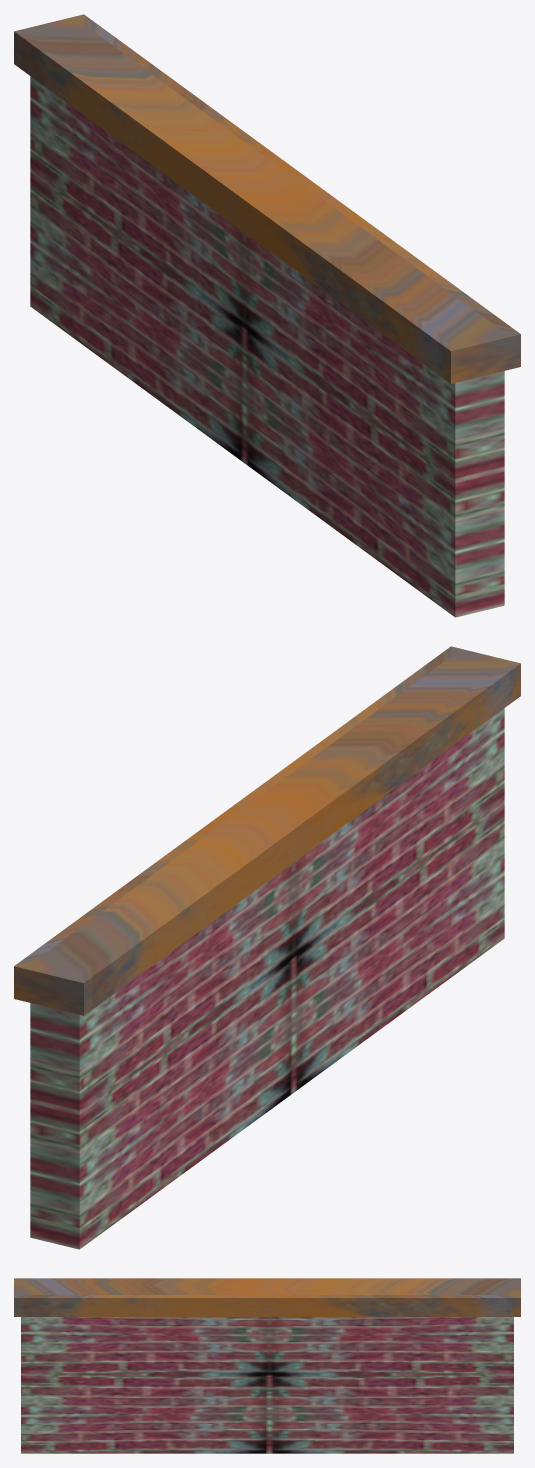
The model's file is wall.fbx.
The picture shows the model from 3 angles, top to bottom: view 1: azimuth 30°, elevation 25°; view 2: azimuth 150°, elevation 25°; view 3: azimuth 270°, elevation 25°; orthographic projection. The views are drawn at different scales.
Visible parts, largest first — view 1: pCube1; view 2: pCube1; view 3: pCube1.
Part boxes in pixels (x1=…): pCube1: x1=14, y1=14, x2=520, y2=617; pCube1: x1=14, y1=646, x2=520, y2=1249; pCube1: x1=14, y1=1278, x2=520, y2=1453.
Size of the model in its own units: 6.72 by 25.07 by 72.68.
